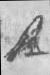G5: (4, 0, 46, 74)
